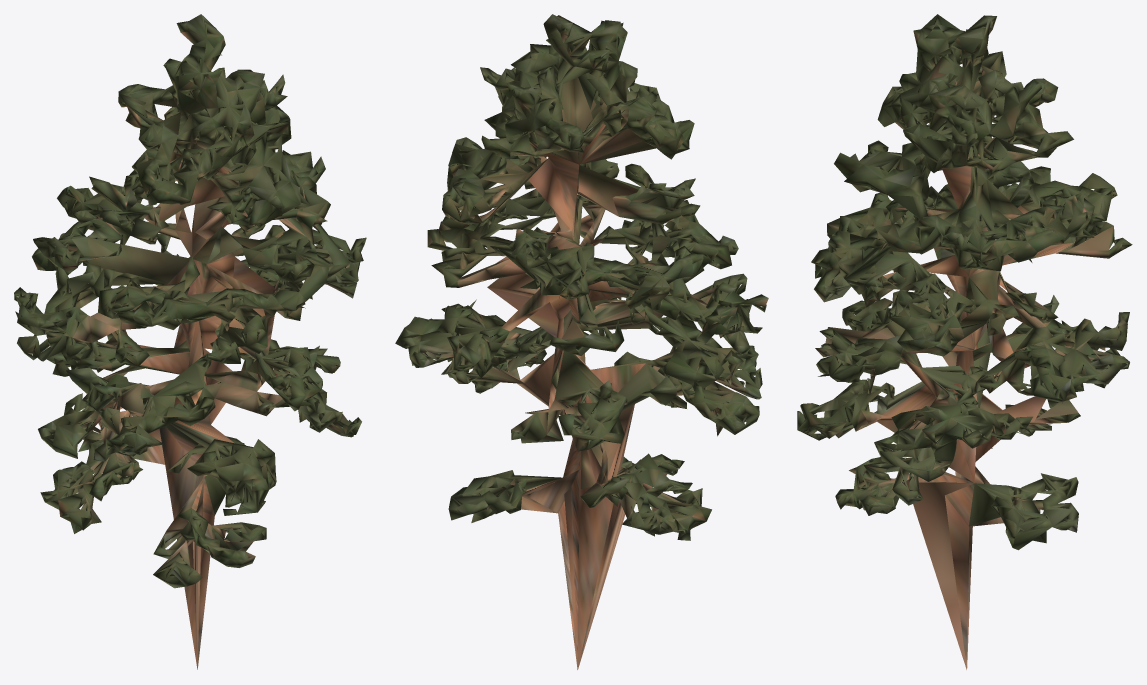
Rendered from pine.glb.
3 views of the same model, side by side, from view 1: azimuth 30°, elevation 25°; view 2: azimuth 150°, elevation 25°; view 3: azimuth 270°, elevation 25° (orthographic). The views are drawn at different scales.
Visible parts, largest first — view 1: pine; view 2: pine; view 3: pine.
Boxes of the visible parts, bbox=[...] form: pine: bbox=[14, 14, 366, 669]; pine: bbox=[395, 14, 768, 669]; pine: bbox=[797, 14, 1132, 669].
Size of the model in its own units: 0.5182 by 1 by 0.4611.
1 material, 1 textured.
